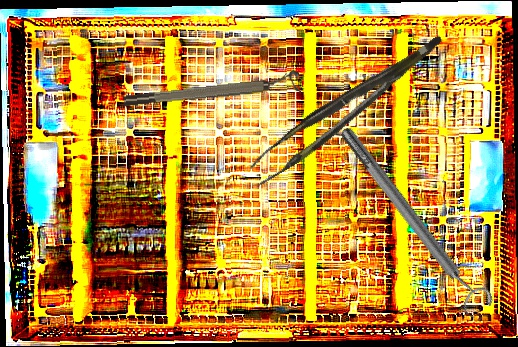Fixation Ring: (331, 117, 498, 323), (122, 69, 301, 110)
Tissue Forceps: (238, 34, 459, 188)
